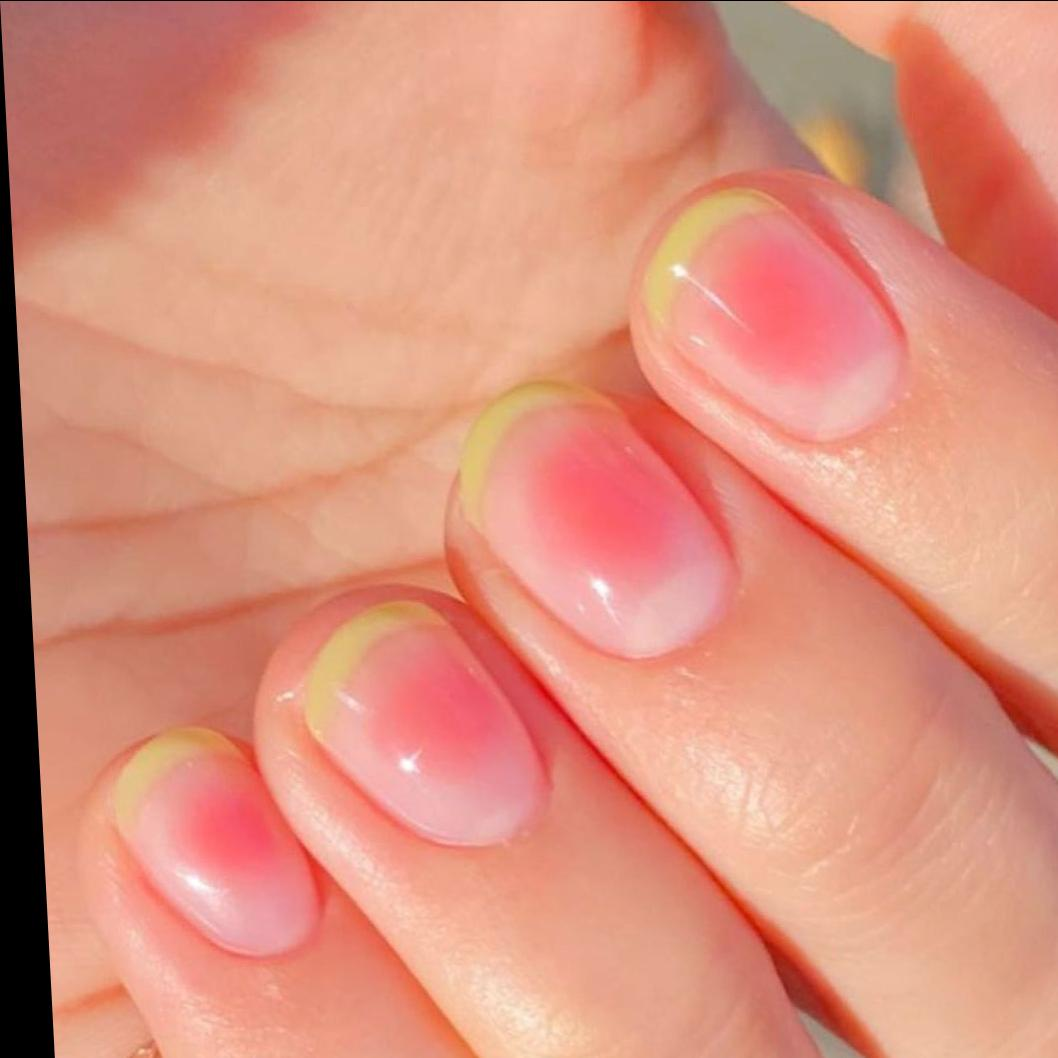nail: (443, 379, 1058, 1058), (621, 166, 1058, 787), (452, 380, 747, 662), (629, 184, 919, 445), (295, 595, 560, 850), (104, 725, 330, 960)
